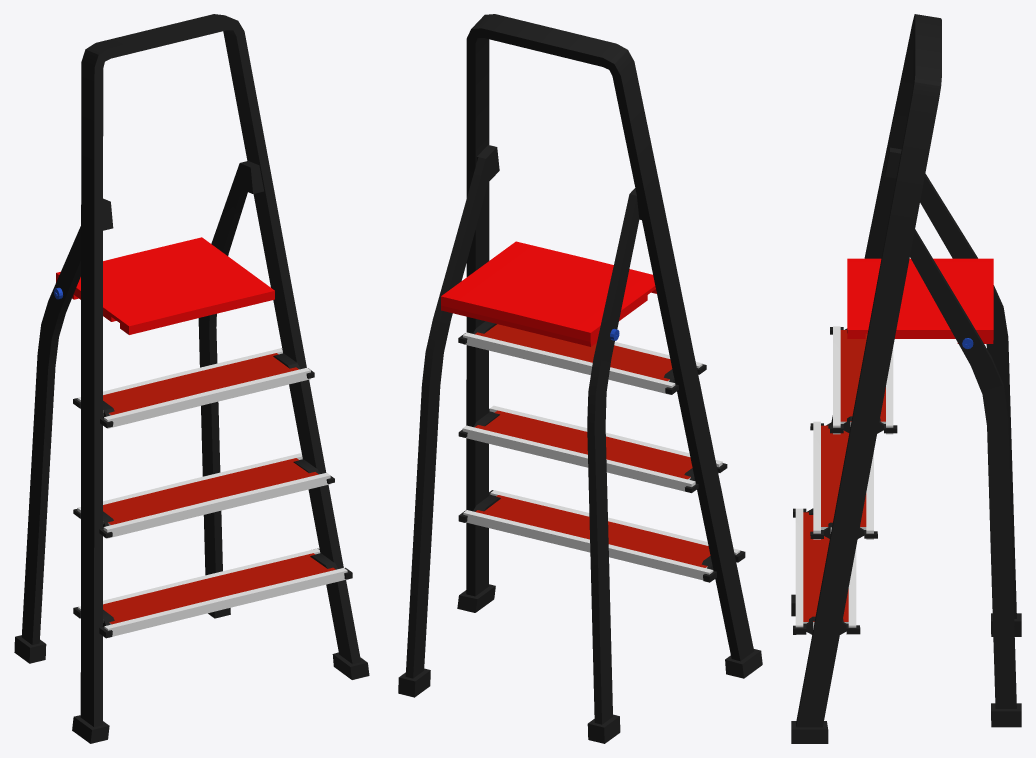
File: Escalera.fbx
3 renders of one model, left to right at view 1: azimuth 30°, elevation 25°; view 2: azimuth 150°, elevation 25°; view 3: azimuth 270°, elevation 25°, orthographic. The views are drawn at different scales.
Visible parts, largest first — view 1: Line004; view 2: Line004; view 3: Line004.
Part boxes in pixels (x1,y1,x2,y2): Line004: (14, 14, 369, 743); Line004: (398, 14, 762, 743); Line004: (791, 14, 1021, 743).
Size of the model in its own units: 1.44 by 3.12 by 1.03.
